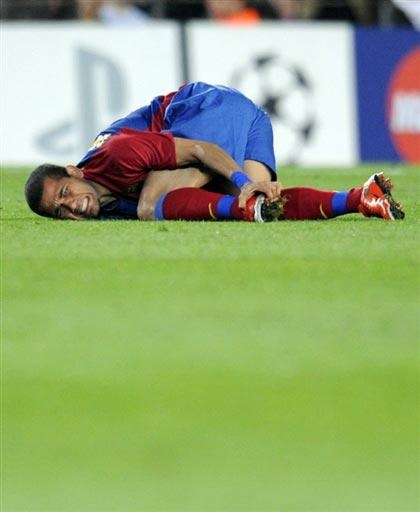falling: (26, 66, 399, 232)
